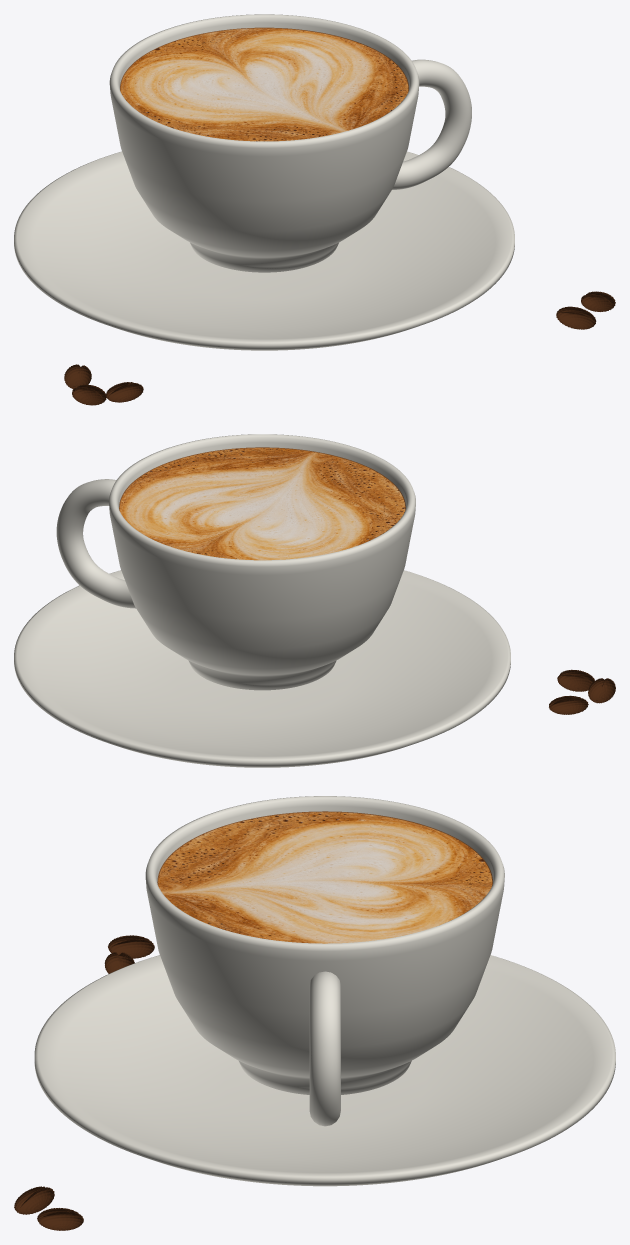
The model's file is finished.glb.
The picture shows the model from 3 angles, top to bottom: view 1: azimuth 30°, elevation 25°; view 2: azimuth 150°, elevation 25°; view 3: azimuth 270°, elevation 25°; orthographic projection. The views are drawn at different scales.
Parts seen in each view (by area): view 1: finished_saucer, finished_cup, finished_latte_surface, finished_cup_handle, finished_roasted_bean_4, finished_roasted_bean_3, finished_roasted_bean_2, finished_roasted_bean_5; view 2: finished_saucer, finished_cup, finished_latte_surface, finished_cup_handle, finished_roasted_bean_3, finished_roasted_bean_1, finished_roasted_bean_2; view 3: finished_saucer, finished_cup, finished_latte_surface, finished_cup_handle, finished_roasted_bean_5, finished_roasted_bean_4, finished_roasted_bean_2.
Boxes of the visible parts, x1,y1,x2,y2 form: finished_saucer: [14, 151, 514, 350]; finished_cup: [109, 14, 419, 272]; finished_latte_surface: [120, 28, 408, 141]; finished_cup_handle: [392, 59, 471, 189]; finished_roasted_bean_4: [556, 306, 596, 329]; finished_roasted_bean_3: [106, 382, 143, 402]; finished_roasted_bean_2: [72, 384, 106, 405]; finished_roasted_bean_5: [581, 291, 615, 311]; finished_saucer: [14, 570, 510, 767]; finished_cup: [109, 434, 415, 690]; finished_latte_surface: [119, 448, 405, 560]; finished_cup_handle: [56, 479, 135, 608]; finished_roasted_bean_3: [557, 669, 594, 691]; finished_roasted_bean_1: [549, 695, 588, 714]; finished_roasted_bean_2: [588, 678, 615, 703]; finished_saucer: [34, 955, 615, 1186]; finished_cup: [145, 796, 504, 1094]; finished_latte_surface: [158, 812, 492, 943]; finished_cup_handle: [309, 971, 340, 1126]; finished_roasted_bean_5: [37, 1208, 83, 1230]; finished_roasted_bean_4: [14, 1186, 54, 1214]; finished_roasted_bean_2: [108, 935, 154, 958].
Size of the model in its own units: 0.1808 by 0.0697 by 0.1615.
4 materials, 1 textured.
